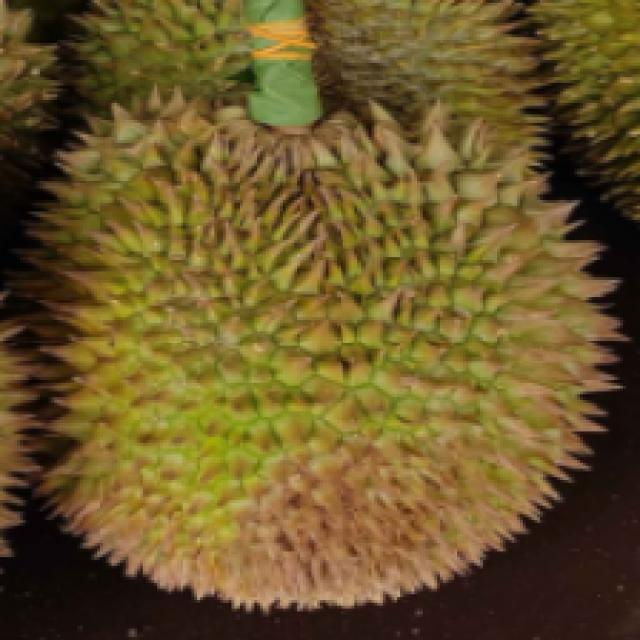d24: (30, 44, 577, 598)
